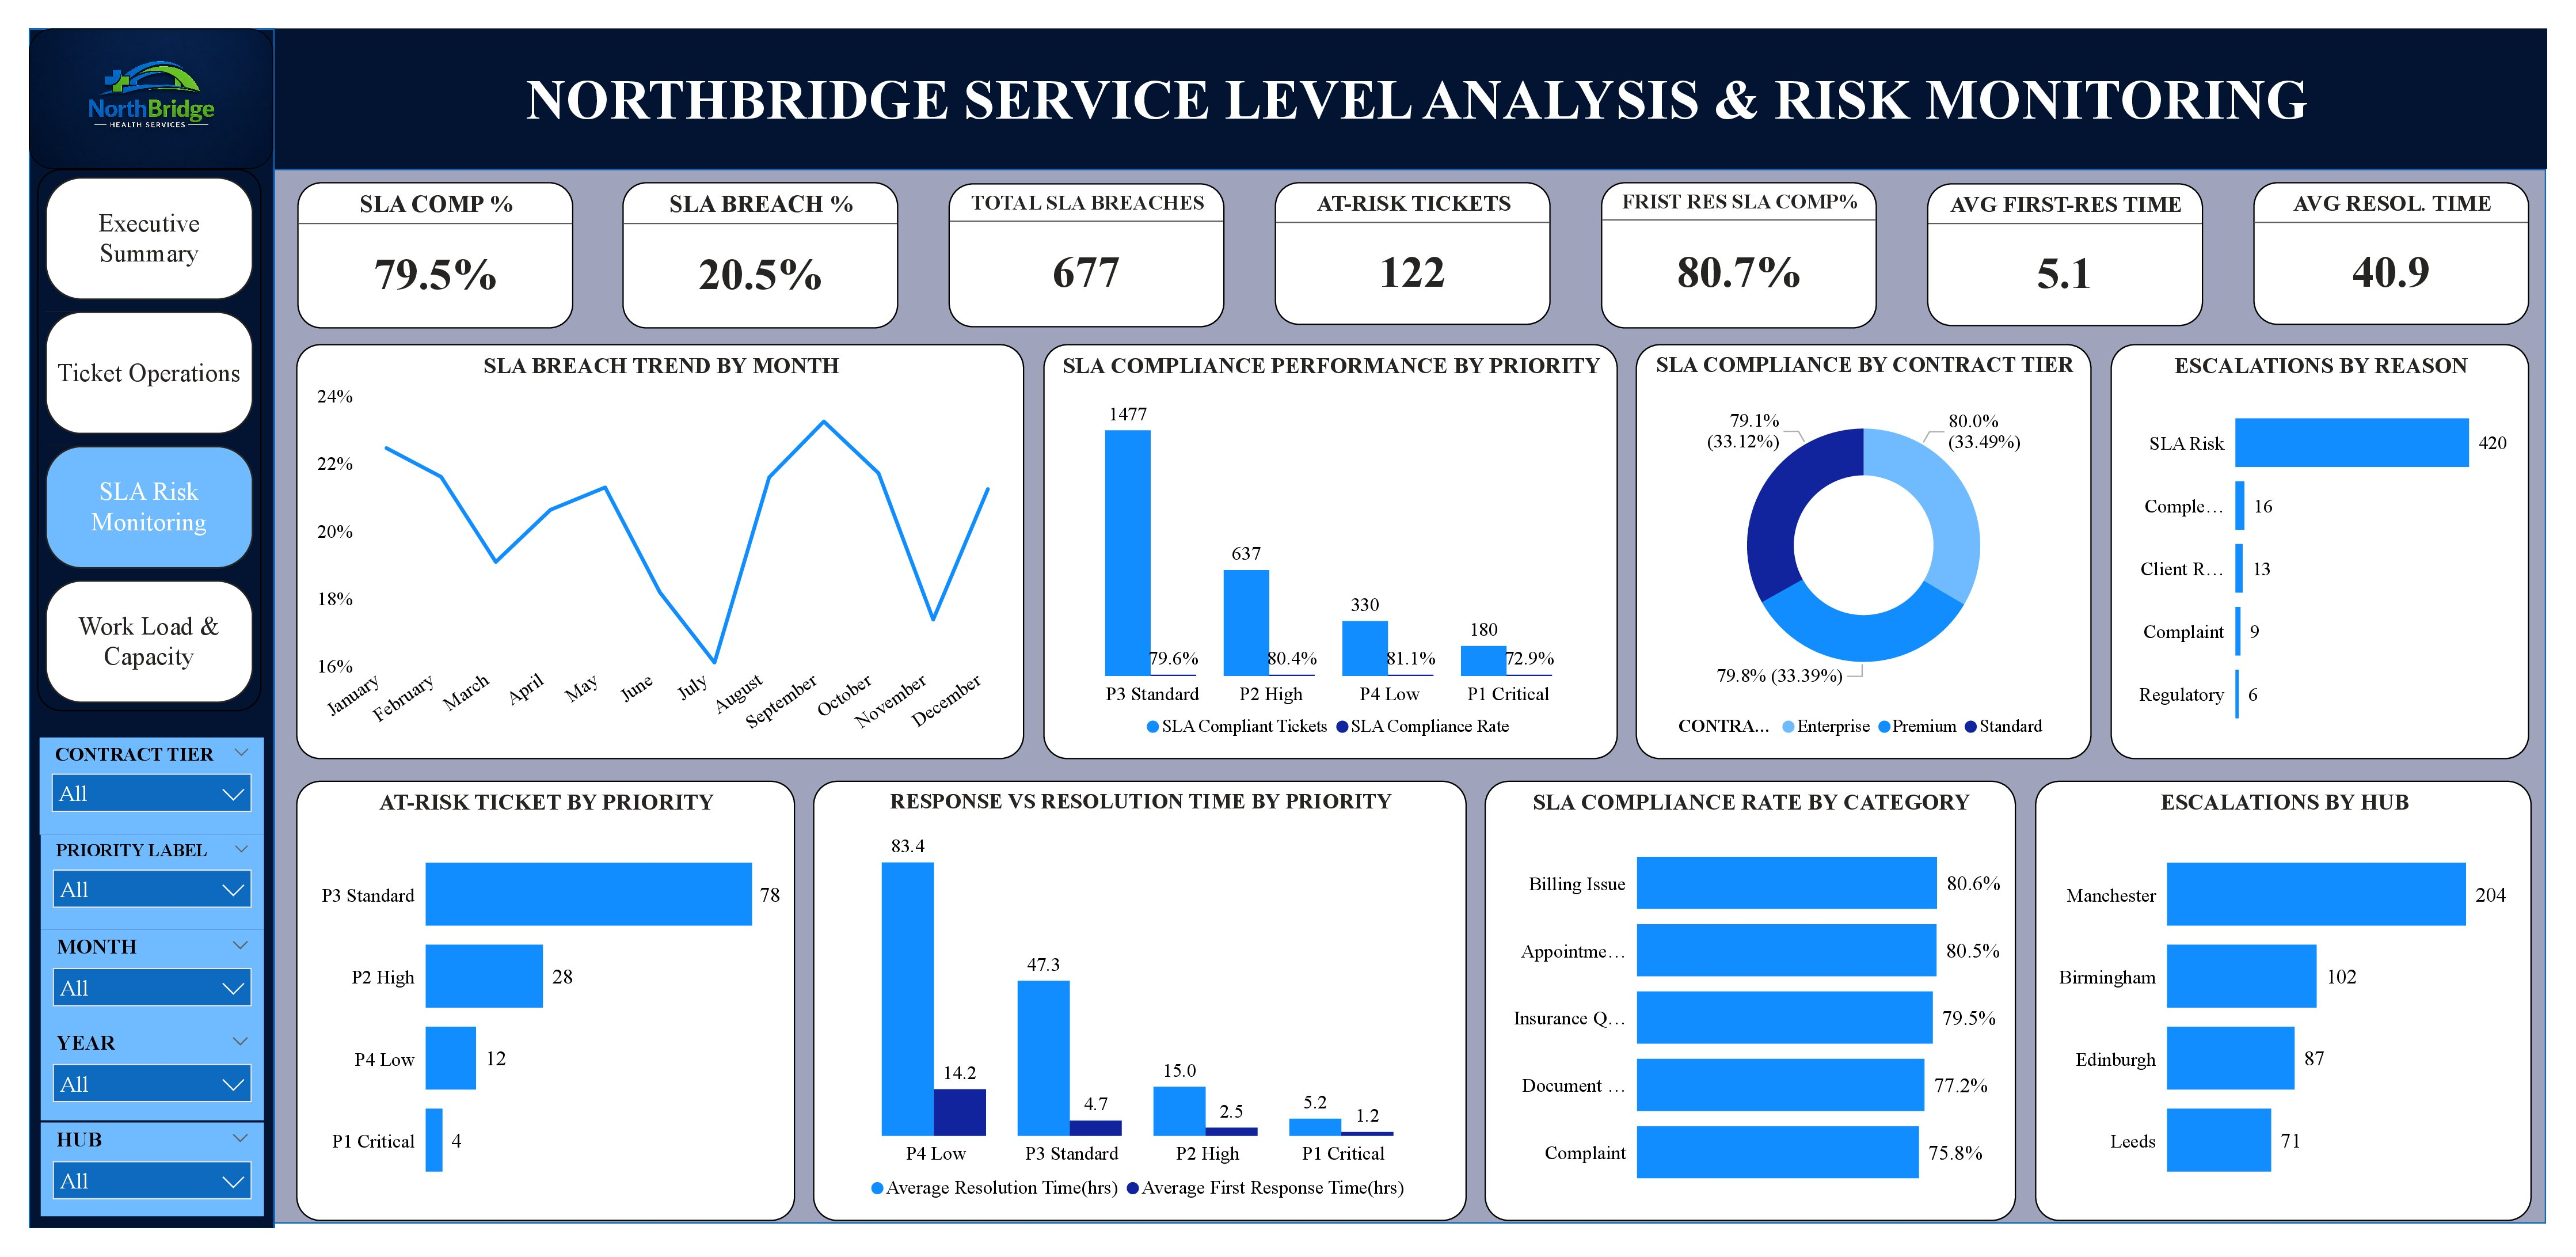

This screenshot's page, from the dashboard's own definition file:
{"tool":"powerbi","page":{"name":"SLA Risk Monitoring","canvas":[2100,1000],"ordinal":2},"visuals":[{"type":"shape","box":[203.7,116.8,1895.5,879.4],"z":0},{"type":"shape","box":[0,0,204.7,1000.8],"z":1000},{"type":"shape","title":"N","box":[204.7,0,1895.8,116.9],"z":2000},{"type":"cardVisual","title":"AT-RISK TICKETS","fields":{"Data":["FCT_TICKETS.At-Risk Tickets"]},"box":[1039.4,128.4,230,118.9],"z":3000},{"type":"cardVisual","title":"FRIST RES SLA COMP%","fields":{"Data":["FCT_TICKETS.First Response SLA Compliance Rate"]},"box":[1311.4,128.4,230,121.3],"z":4000},{"type":"cardVisual","title":"TOTAL SLA BREACHES","fields":{"Data":["FCT_TICKETS.Total SLA Breaches"]},"box":[767.5,128.5,230,120],"z":5000},{"type":"cardVisual","title":"SLA COMP %","fields":{"Data":["FCT_TICKETS.SLA Compliance Rate"]},"box":[223.5,128.4,230,121.3],"z":6000},{"type":"cardVisual","title":"SLA BREACH %","fields":{"Data":["FCT_TICKETS.SLA Breach Rate"]},"box":[495.5,128.4,230,121.3],"z":7000},{"type":"cardVisual","title":"AVG FIRST-RES TIME","fields":{"Data":["FCT_TICKETS.Average First Response Time(hrs)"]},"box":[1583.4,128.5,230,119.1],"z":8000},{"type":"cardVisual","title":"AVG RESOL. TIME","fields":{"Data":["FCT_TICKETS.Average Resolution Time(hrs)"]},"box":[1855.4,128.2,229.4,119.2],"z":9000},{"type":"lineChart","title":"SLA BREACH TREND BY MONTH","fields":{"Category":["DIM_DATE.DATE_KEY.Variation.Date Hierarchy.Year","DIM_DATE.DATE_KEY.Variation.Date Hierarchy.Quarter","DIM_DATE.DATE_KEY.Variation.Date Hierarchy.Month","DIM_DATE.DATE_KEY.Variation.Date Hierarchy.Day"],"Y":["FCT_TICKETS.SLA Breach Rate"]},"box":[222.6,263.1,607.2,346.3],"z":10000},{"type":"barChart","title":"AT-RISK TICKET BY PRIORITY","fields":{"Category":["DIM_PRIORITY.PRIORITY_LABEL"],"Y":["FCT_TICKETS.At-Risk Tickets"]},"box":[222.6,627.5,416.1,366.6],"z":11000},{"type":"donutChart","title":"SLA COMPLIANCE BY CONTRACT TIER","fields":{"Category":["DIM_CLIENTS.CONTRACT_TIER"],"Y":["FCT_TICKETS.SLA Compliance Rate"]},"box":[1340.4,263.1,380.1,346.3],"z":12000},{"type":"image","box":[0,0,203.7,116.8],"z":13000},{"type":"clusteredColumnChart","title":"SLA COMPLIANCE PERFORMANCE BY PRIORITY","fields":{"Category":["DIM_PRIORITY.PRIORITY_LABEL"],"Y":["FCT_TICKETS.SLA Compliant Tickets","FCT_TICKETS.SLA Compliance Rate"]},"box":[845.6,263.1,479,346.3],"z":14000},{"type":"clusteredColumnChart","title":"RESPONSE VS RESOLUTION TIME BY PRIORITY","fields":{"Category":["DIM_PRIORITY.PRIORITY_LABEL"],"Y":["FCT_TICKETS.Average Resolution Time(hrs)","FCT_TICKETS.Average First Response Time(hrs)"]},"box":[654.4,627.5,544.2,366.6],"z":15000},{"type":"clusteredBarChart","title":"SLA COMPLIANCE RATE BY CATEGORY","fields":{"Category":["DIM_TICKET_CATEGORY.CATEGORY_NAME"],"Y":["FCT_TICKETS.SLA Compliance Rate"]},"box":[1214.4,627.5,443,366.6],"z":16000},{"type":"barChart","title":"ESCALATIONS BY HUB","fields":{"Category":["DIM_AGENTS.HUB"],"Y":["FCT_ESCALATIONS.Total Escalations"]},"box":[1673.2,627.5,413.8,366.6],"z":17000},{"type":"barChart","title":"ESCALATIONS BY REASON","fields":{"Category":["FCT_ESCALATIONS.ESCALATION_REASON"],"Y":["FCT_ESCALATIONS.Total Escalations"]},"box":[1736.2,263.1,348.6,346.3],"z":18000},{"type":"pageNavigator","box":[7.5,116.8,186.3,452.1],"z":19000},{"type":"slicer","fields":{"Values":["DIM_DATE.YEAR_MONTH.Variation.Date Hierarchy.Year"]},"box":[9.9,830.6,186.3,79.5],"z":20000},{"type":"slicer","fields":{"Values":["DIM_DATE.YEAR_MONTH.Variation.Date Hierarchy.Month"]},"box":[9.9,751.1,186.3,79.5],"z":21000},{"type":"slicer","fields":{"Values":["DIM_PRIORITY.PRIORITY_LABEL"]},"box":[9.9,671.6,186.3,79.5],"z":22000},{"type":"slicer","fields":{"Values":["FCT_TICKETS.CONTRACT_TIER"]},"box":[9,591.5,186.7,81],"z":23000},{"type":"slicer","fields":{"Values":["DIM_AGENTS.HUB"]},"box":[10.4,911.9,186,77.7],"z":24000}]}

Visuals, with their boxes on the page's 2100x1000 design canvas (x1, y1, x2, y2). These are canvas units, not pixel positions in the 2576x1257 screenshot, which may show the page scaled, cropped or inside an application window:
shape: [204,117,2099,996]
shape: [0,0,205,1001]
"N" shape: [205,0,2100,117]
"AT-RISK TICKETS" cardVisual: [1039,128,1269,247]
"FRIST RES SLA COMP%" cardVisual: [1311,128,1541,250]
"TOTAL SLA BREACHES" cardVisual: [768,128,998,248]
"SLA COMP %" cardVisual: [224,128,454,250]
"SLA BREACH %" cardVisual: [496,128,726,250]
"AVG FIRST-RES TIME" cardVisual: [1583,128,1813,248]
"AVG RESOL. TIME" cardVisual: [1855,128,2085,247]
"SLA BREACH TREND BY MONTH" lineChart: [223,263,830,609]
"AT-RISK TICKET BY PRIORITY" barChart: [223,628,639,994]
"SLA COMPLIANCE BY CONTRACT TIER" donutChart: [1340,263,1720,609]
image: [0,0,204,117]
"SLA COMPLIANCE PERFORMANCE BY PRIORITY" clusteredColumnChart: [846,263,1325,609]
"RESPONSE VS RESOLUTION TIME BY PRIORITY" clusteredColumnChart: [654,628,1199,994]
"SLA COMPLIANCE RATE BY CATEGORY" clusteredBarChart: [1214,628,1657,994]
"ESCALATIONS BY HUB" barChart: [1673,628,2087,994]
"ESCALATIONS BY REASON" barChart: [1736,263,2085,609]
pageNavigator: [8,117,194,569]
slicer - DIM_DATE.YEAR_MONTH.Variation.Date Hierarchy.Year: [10,831,196,910]
slicer - DIM_DATE.YEAR_MONTH.Variation.Date Hierarchy.Month: [10,751,196,831]
slicer - DIM_PRIORITY.PRIORITY_LABEL: [10,672,196,751]
slicer - FCT_TICKETS.CONTRACT_TIER: [9,592,196,672]
slicer - DIM_AGENTS.HUB: [10,912,196,990]
